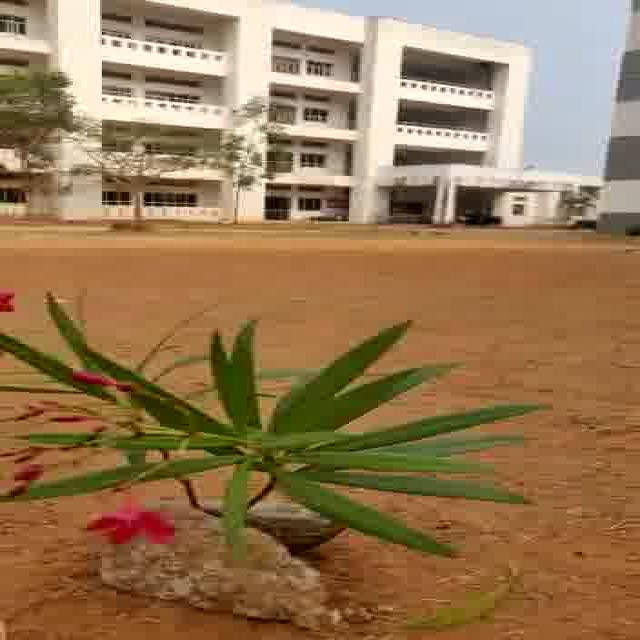Oleander: (0, 299, 533, 579)
